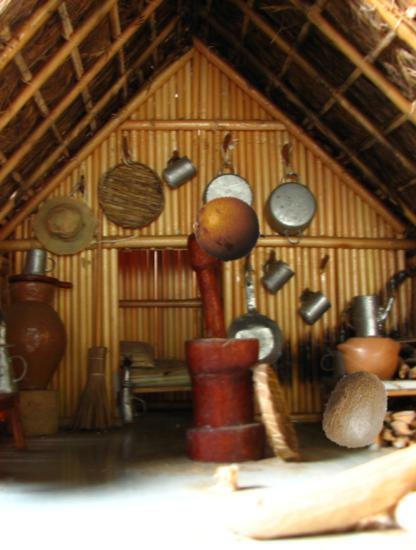Granadilla: (193, 193, 266, 266)
Kiwi: (316, 370, 397, 451)
